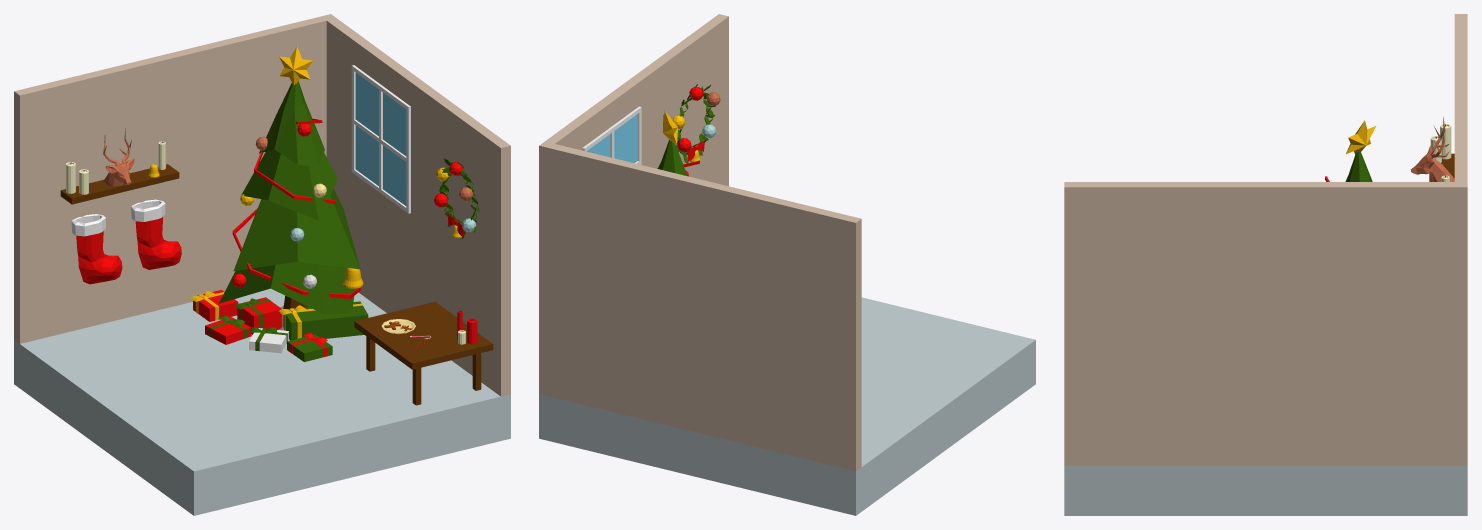
Rendered from Christmas.fbx.
The picture shows the model from 3 angles, left to right: view 1: azimuth 30°, elevation 25°; view 2: azimuth 150°, elevation 25°; view 3: azimuth 270°, elevation 25°; orthographic projection. The views are drawn at different scales.
Visible parts, largest first — view 1: Cube, Cube (1), Cube (2), Prop_Christmas_Tree_01, Cube (11), Cube (4), Prop_Christmas_Ornament_Stocking_01, Prop_Christmas_Ornament_Stocking_01 (1), Prop_Christmas_Present_Green_06, Cube (3), Prop_Christmas_Present_Red_02, Prop_Christmas_Tree_Tinsel_Red_01 (+7 smaller); view 2: Cube (1), Cube, Cube (2), Cube (4), Prop_Christmas_Ornament_Wreath_01, Prop_Christmas_Tree_01; view 3: Cube (2), Cube, Cube (1), Prop_Christmas_Ornament_Reindeer_Head_Burnished_01, Prop_Christmas_Ornament_Star_Gold_01, Prop_Christmas_Tree_01.
Part boxes in pixels (x1=…): Cube: x1=14, y1=288, x2=510, y2=515; Cube (1): x1=14, y1=14, x2=336, y2=343; Cube (2): x1=322, y1=15, x2=510, y2=396; Prop_Christmas_Tree_01: x1=219, y1=81, x2=360, y2=330; Cube (11): x1=354, y1=301, x2=493, y2=369; Cube (4): x1=355, y1=73, x2=406, y2=205; Prop_Christmas_Ornament_Stocking_01: x1=71, y1=214, x2=122, y2=284; Prop_Christmas_Ornament_Stocking_01 (1): x1=131, y1=199, x2=181, y2=269; Prop_Christmas_Present_Green_06: x1=279, y1=301, x2=368, y2=340; Cube (3): x1=60, y1=164, x2=179, y2=204; Prop_Christmas_Present_Red_02: x1=234, y1=297, x2=282, y2=334; Prop_Christmas_Tree_Tinsel_Red_01: x1=232, y1=119, x2=360, y2=298; Cube (1): x1=539, y1=141, x2=861, y2=471; Cube: x1=539, y1=297, x2=1035, y2=515; Cube (2): x1=541, y1=14, x2=728, y2=186; Cube (4): x1=587, y1=114, x2=637, y2=163; Prop_Christmas_Ornament_Wreath_01: x1=676, y1=84, x2=715, y2=163; Prop_Christmas_Tree_01: x1=657, y1=140, x2=687, y2=175; Cube (2): x1=1064, y1=182, x2=1461, y2=465; Cube: x1=1064, y1=466, x2=1467, y2=515; Cube (1): x1=1454, y1=14, x2=1467, y2=465; Prop_Christmas_Ornament_Reindeer_Head_Burnished_01: x1=1410, y1=116, x2=1454, y2=181; Prop_Christmas_Ornament_Star_Gold_01: x1=1346, y1=120, x2=1375, y2=154; Prop_Christmas_Tree_01: x1=1345, y1=151, x2=1372, y2=181.
Bounding box in the file's own units: 3.67 × 3.47 × 3.61.
